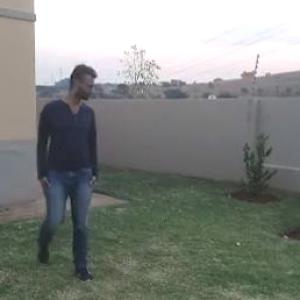follow: (34, 52, 116, 298)
